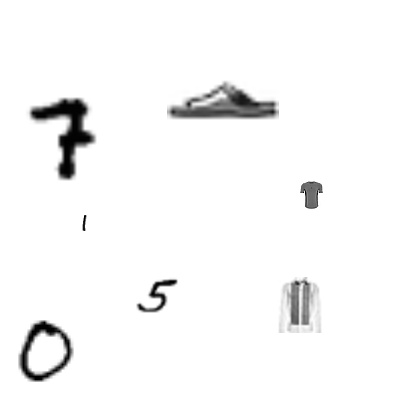0: (1, 306, 85, 390)
1: (73, 212, 95, 234)
5: (129, 266, 185, 322)
7: (11, 71, 123, 183)
Sandal: (167, 42, 279, 154)
Shirt: (271, 277, 327, 333)
T-shirt/top: (297, 181, 325, 209)
